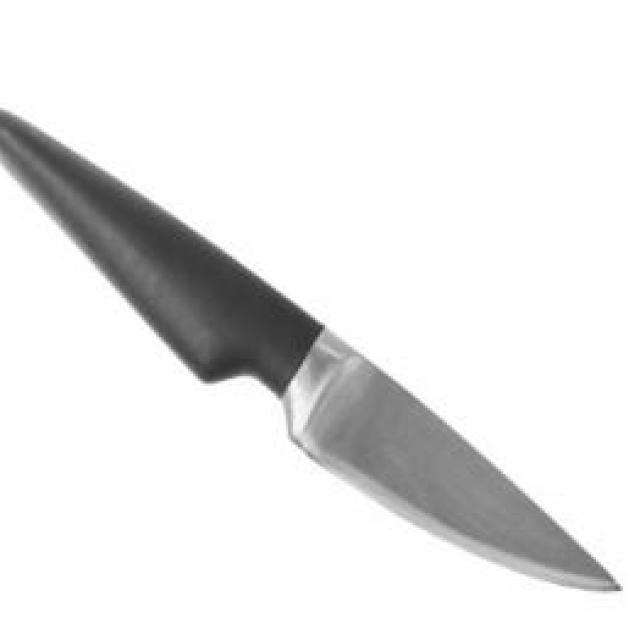knife: (0, 102, 628, 598)
